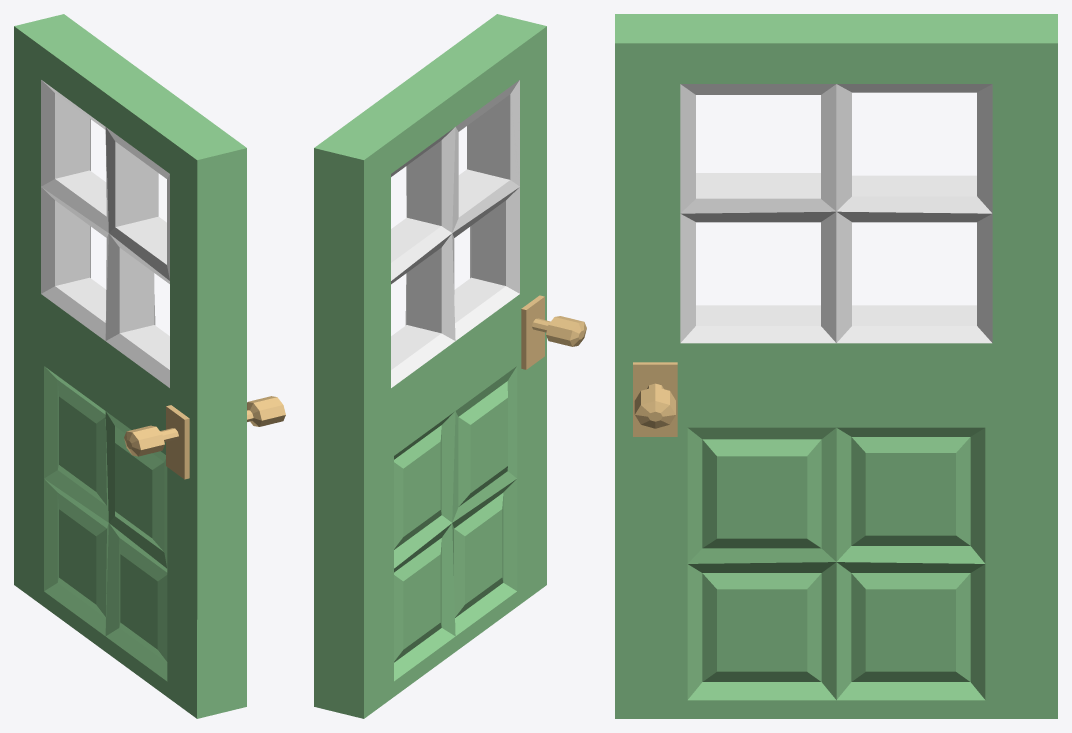
File: door01.gltf
3 renders of one model, left to right at view 1: azimuth 30°, elevation 25°; view 2: azimuth 150°, elevation 25°; view 3: azimuth 270°, elevation 25°, orthographic. The views are drawn at different scales.
Parts seen in each view (by area): view 1: door_Cube.030; view 2: door_Cube.030; view 3: door_Cube.030.
Part boxes in pixels (x1=…): door_Cube.030: x1=14, y1=14, x2=285, y2=718; door_Cube.030: x1=314, y1=14, x2=586, y2=718; door_Cube.030: x1=615, y1=14, x2=1057, y2=718.
Size of the model in its own units: 0.5094 by 1.8 by 1.07.
